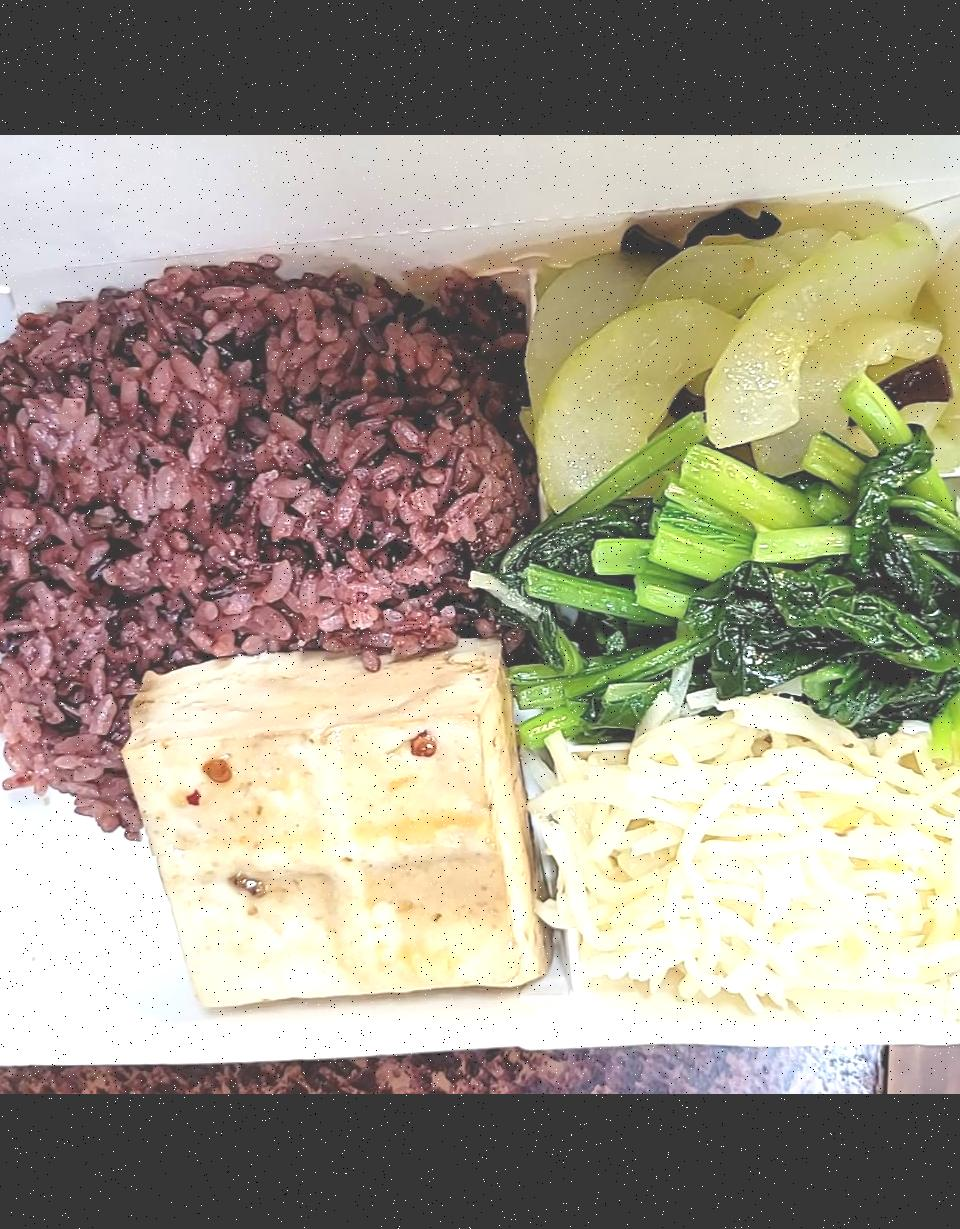big grilled chicken leg: (0, 151, 960, 1086)
braised fish: (0, 255, 528, 828)
braised fish fillet: (104, 634, 544, 1028), (506, 195, 960, 509), (513, 474, 960, 741), (561, 707, 960, 999)
